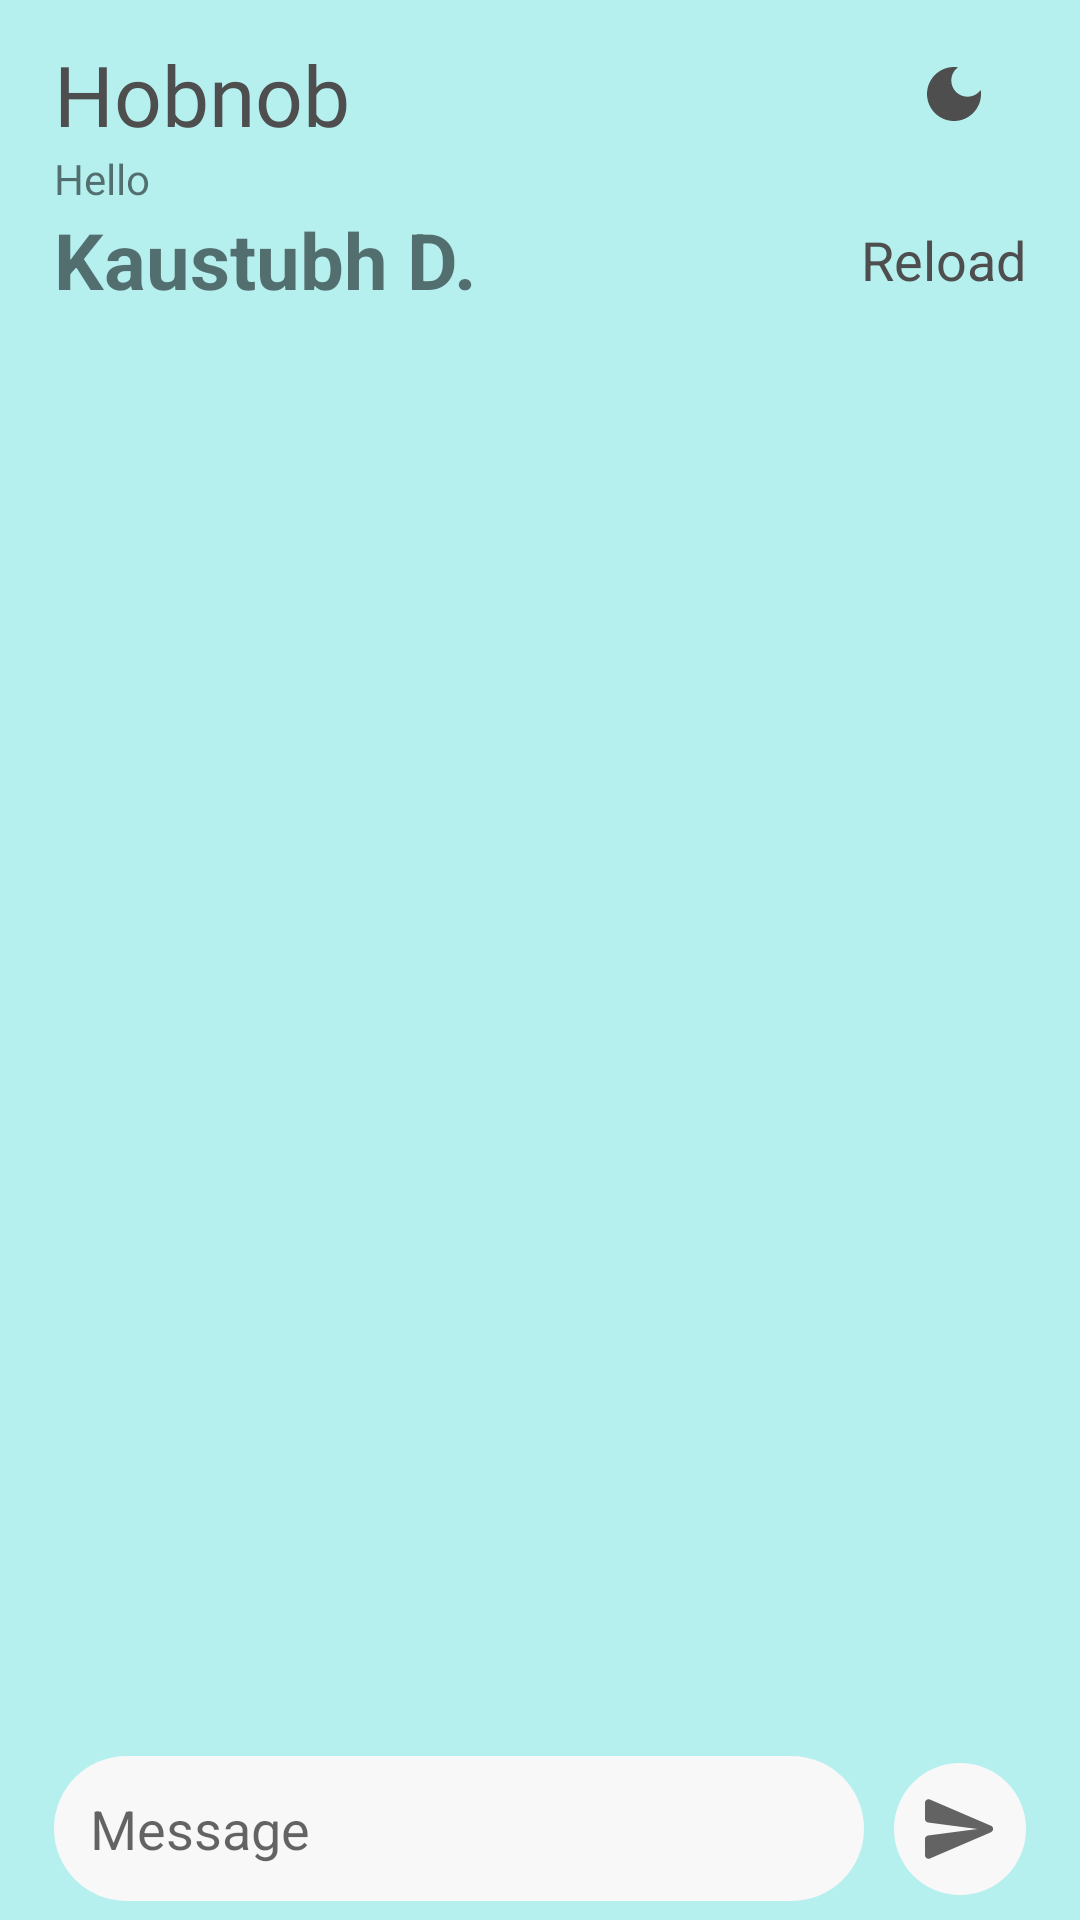

Point at icon controls on the screen. Image size 1080 x 1920, points as [x,y].
mode: [954,94]
send: [960,1829]
